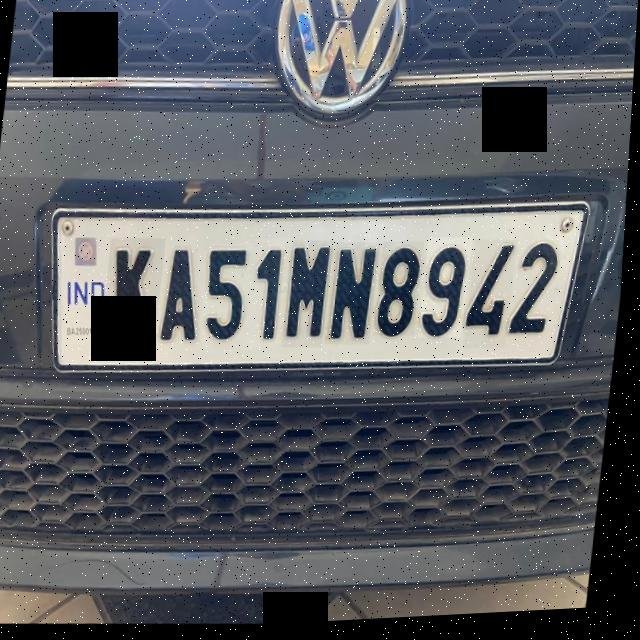1: (248, 240, 294, 351)
4: (467, 243, 521, 356)
5: (202, 244, 257, 346)
8: (377, 244, 428, 342)
9: (422, 241, 476, 345)
A: (158, 242, 211, 353)
K: (104, 237, 169, 349)
M: (285, 243, 338, 355)
N: (329, 244, 384, 350)
